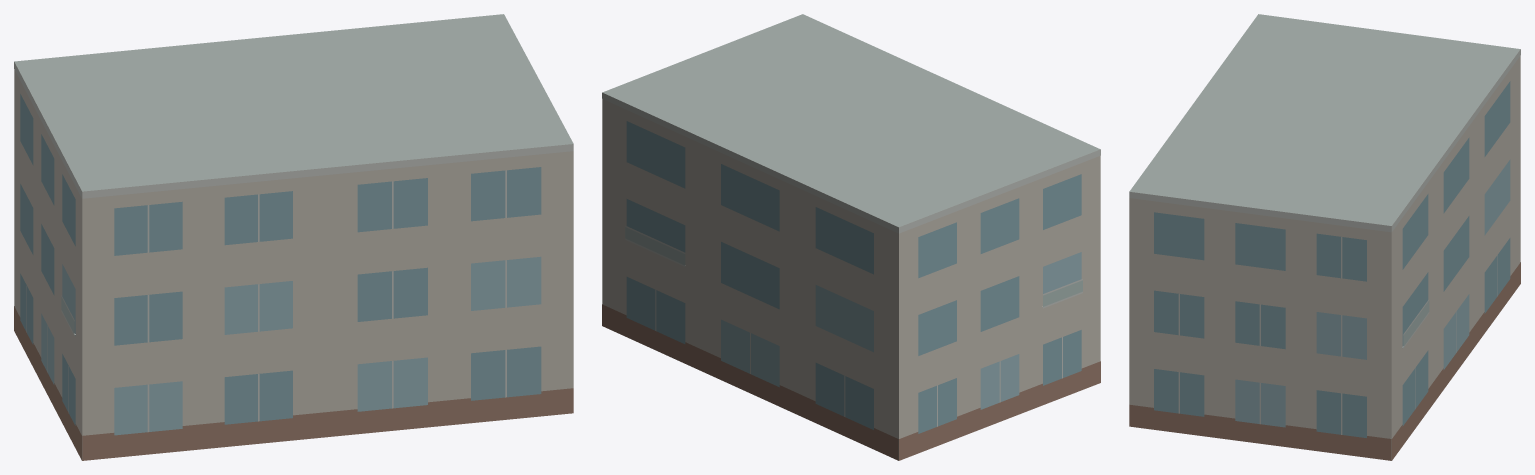
File: survey-upis-33045901.glb
The picture shows the model from 3 angles, left to right: view 1: azimuth 30°, elevation 25°; view 2: azimuth 150°, elevation 25°; view 3: azimuth 270°, elevation 25°; orthographic projection. The views are drawn at different scales.
Parts seen in each view (by area): view 1: survey-upis-33045901.tmp; view 2: survey-upis-33045901.tmp; view 3: survey-upis-33045901.tmp.
Boxes of the visible parts, x1=… form: survey-upis-33045901.tmp: x1=14, y1=14, x2=573, y2=460; survey-upis-33045901.tmp: x1=602, y1=14, x2=1100, y2=460; survey-upis-33045901.tmp: x1=1129, y1=14, x2=1520, y2=460.
Size of the model in its own units: 17.73 by 9.15 by 13.83.
